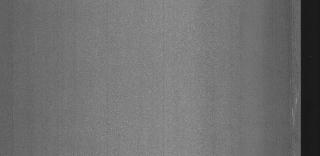silk spot: (276, 80, 298, 134)
